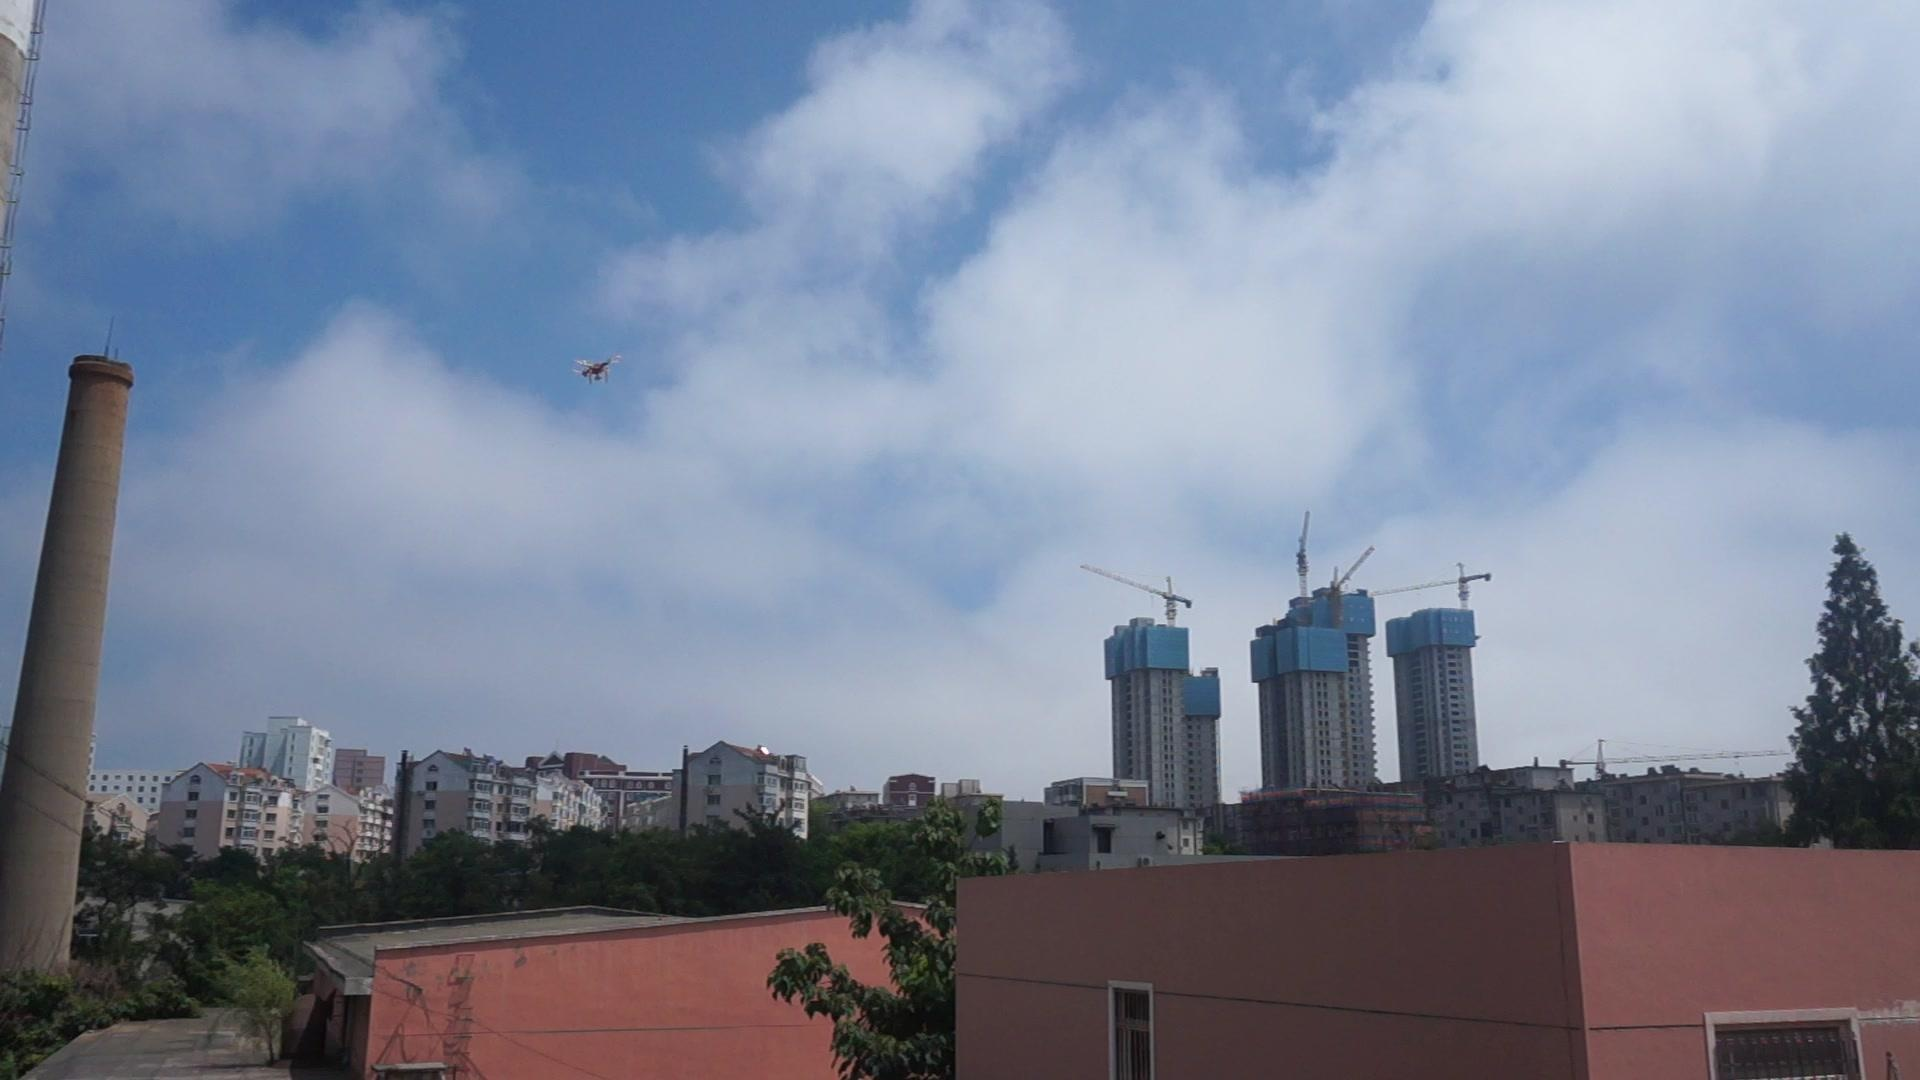UAV: (574, 353, 622, 385)
